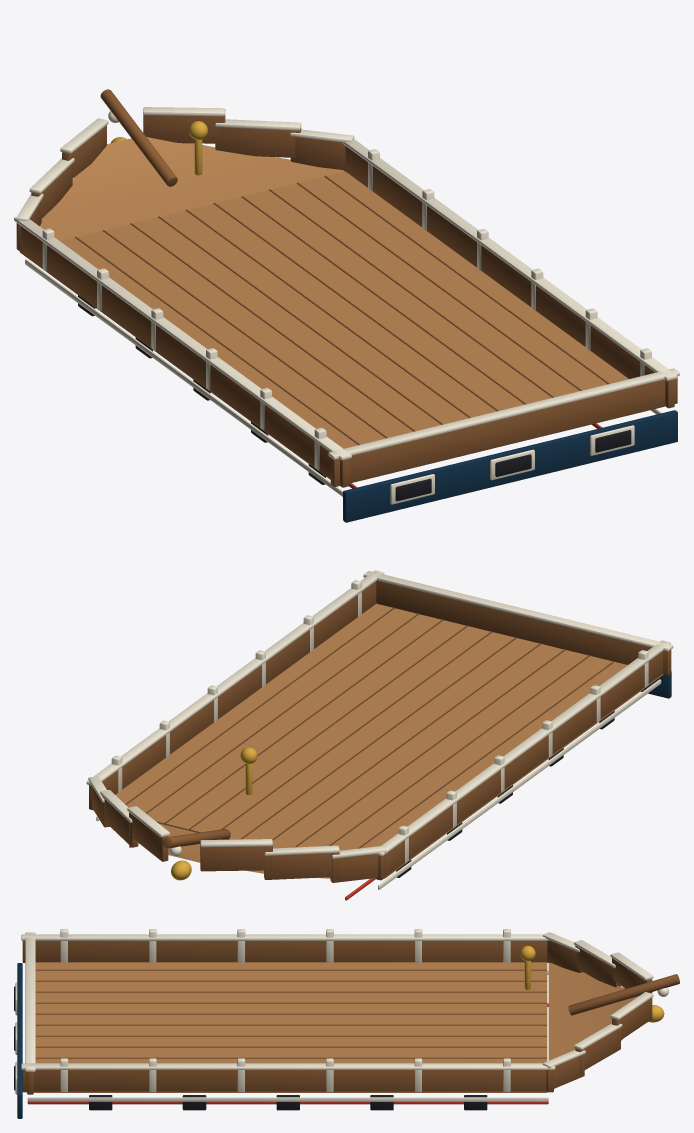
Rendered from PlayerShipDeco.glb.
The picture shows the model from 3 angles, top to bottom: view 1: azimuth 30°, elevation 25°; view 2: azimuth 150°, elevation 25°; view 3: azimuth 270°, elevation 25°; orthographic projection. The views are drawn at different scales.
Parts seen in each view (by area): view 1: PlayerShipDeco; view 2: PlayerShipDeco; view 3: PlayerShipDeco.
Part boxes in pixels (x1,y1,x2,y2): PlayerShipDeco: (14, 89, 679, 522); PlayerShipDeco: (86, 570, 673, 900); PlayerShipDeco: (14, 929, 679, 1118).
Bounding box in the file's own units: 12.5 × 5.05 × 25.57.
